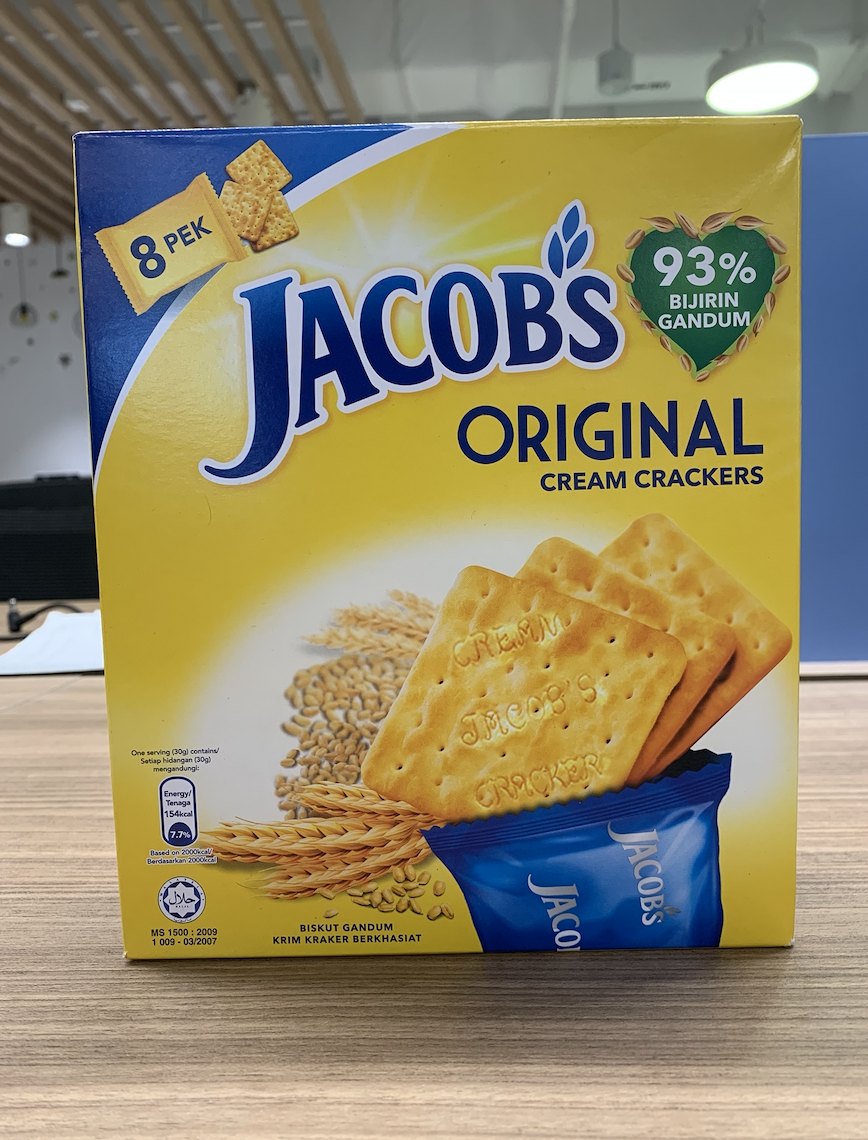crackers_200g-299g: (102, 141, 789, 941)
